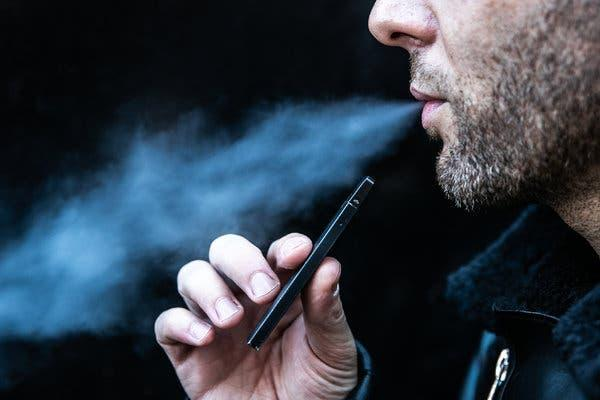Smoke: (8, 155, 180, 316)
Vape: (251, 180, 374, 354)
